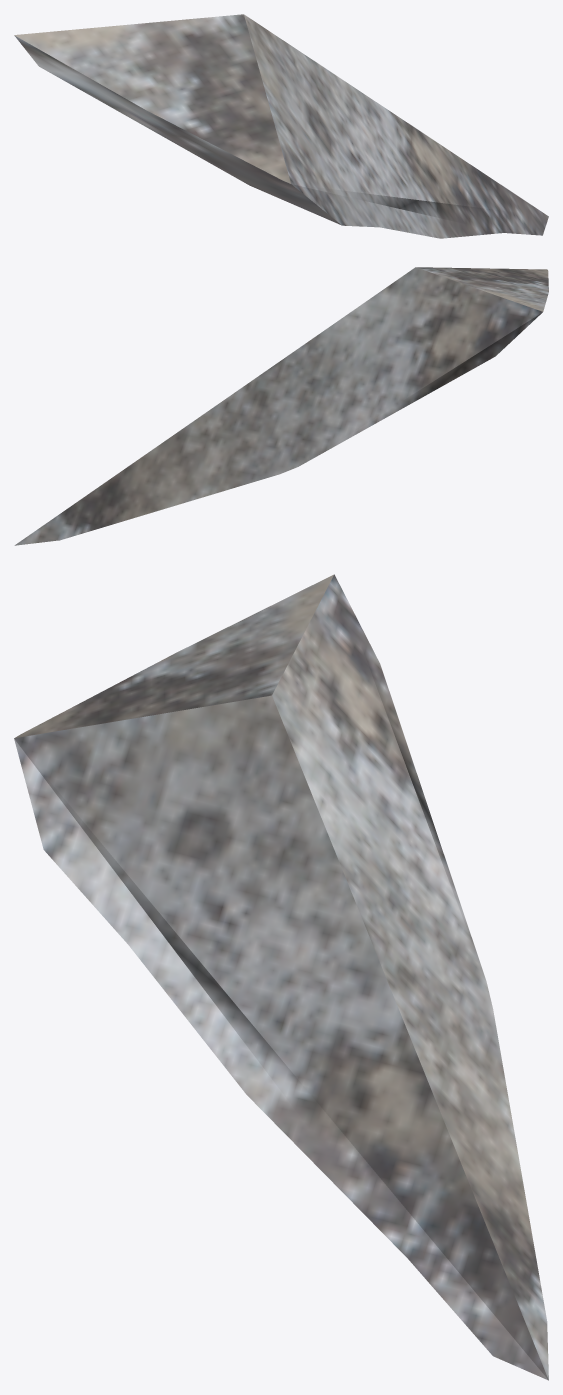
Rendered from Asteroid_Large_001_02_002_03_030.fbx.
The picture shows the model from 3 angles, top to bottom: view 1: azimuth 30°, elevation 25°; view 2: azimuth 150°, elevation 25°; view 3: azimuth 270°, elevation 25°; orthographic projection. The views are drawn at different scales.
Parts seen in each view (by area): view 1: Asteroid_Large_001_02_002_03_030; view 2: Asteroid_Large_001_02_002_03_030; view 3: Asteroid_Large_001_02_002_03_030.
Boxes of the visible parts, x1,y1,x2,y2 form: Asteroid_Large_001_02_002_03_030: [14, 14, 548, 238]; Asteroid_Large_001_02_002_03_030: [14, 267, 548, 545]; Asteroid_Large_001_02_002_03_030: [14, 574, 548, 1380].
Size of the model in its own units: 5.78 by 3.55 by 3.76.
